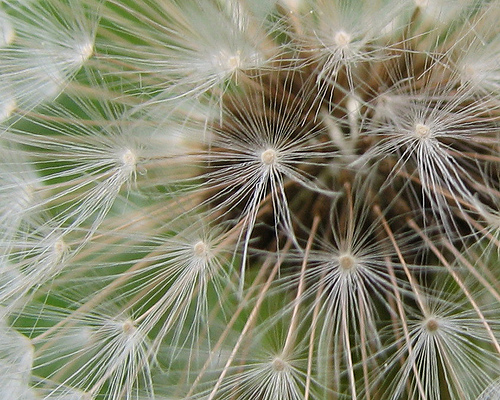dandelion: (4, 3, 499, 397)
